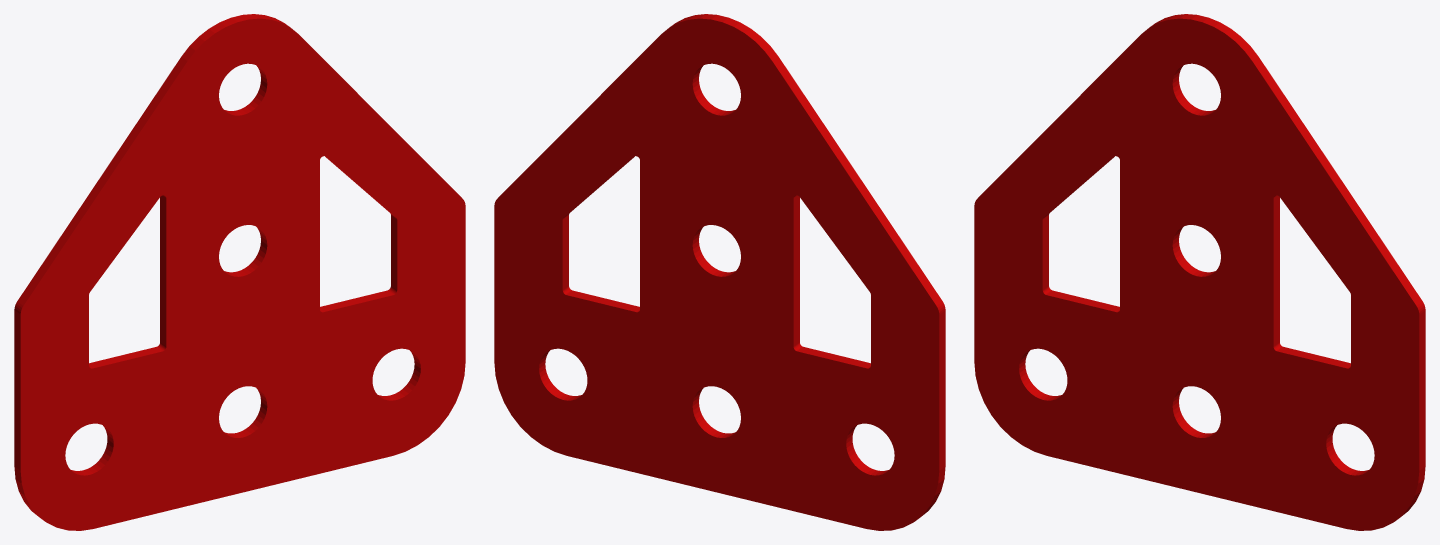
File: Bracket_VuongNhon.glb
The picture shows the model from 3 angles, left to right: view 1: azimuth 30°, elevation 25°; view 2: azimuth 150°, elevation 25°; view 3: azimuth 330°, elevation 25°; orthographic projection.
Parts seen in each view (by area): view 1: Bracket_VuongNhon; view 2: Bracket_VuongNhon; view 3: Bracket_VuongNhon.
Part boxes in pixels (bbox=[...]): Bracket_VuongNhon: bbox=[14, 14, 465, 530]; Bracket_VuongNhon: bbox=[494, 14, 945, 530]; Bracket_VuongNhon: bbox=[974, 14, 1425, 530].
Size of the model in its own units: 91.63 by 92.81 by 2.24.
